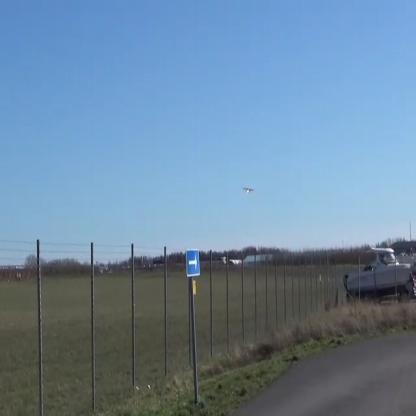CIV_Plane: (238, 179, 258, 200)
